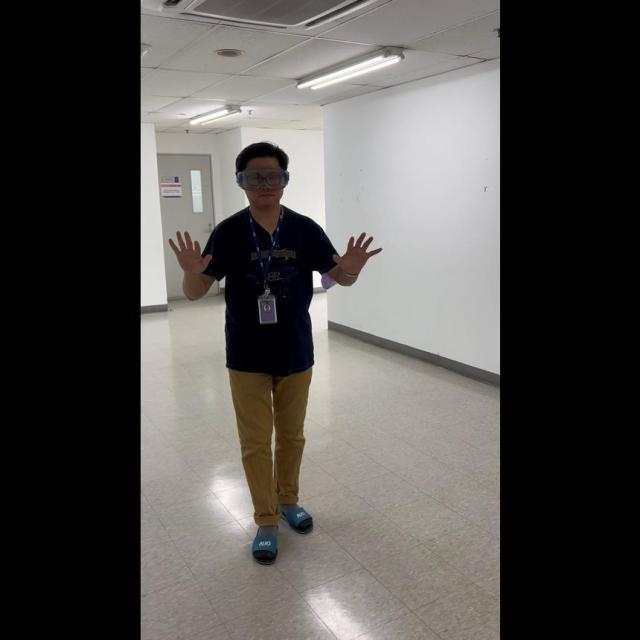bare_hand: (330, 229, 380, 272), (167, 226, 211, 273)
